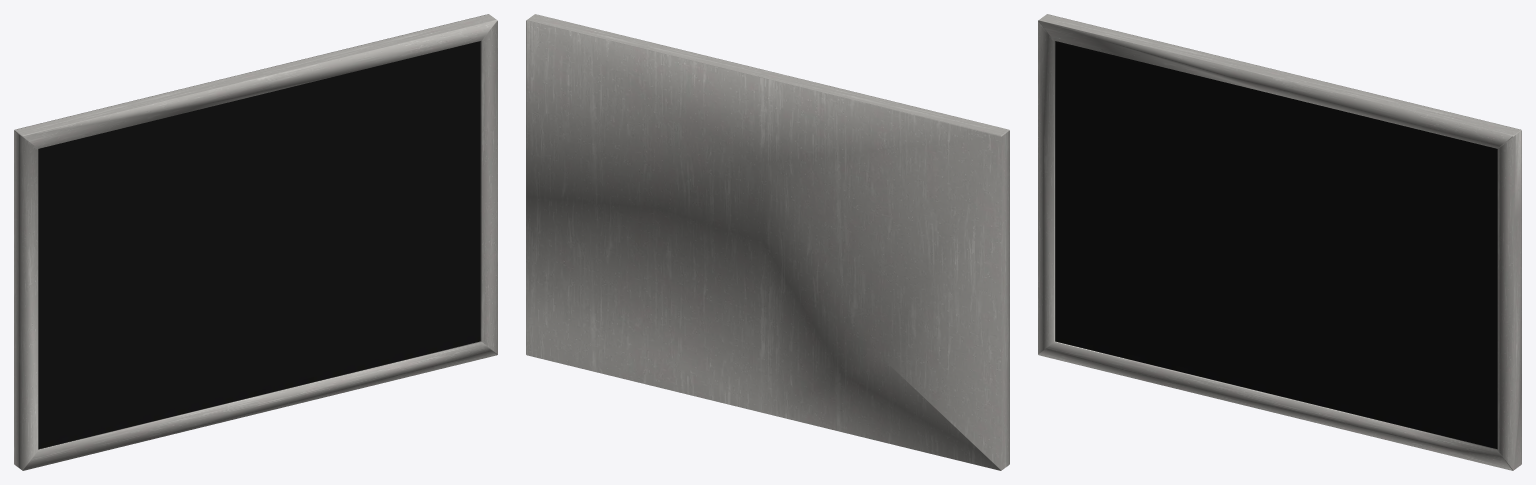
File: B075YLMC86.glb
The picture shows the model from 3 angles, left to right: view 1: azimuth 30°, elevation 25°; view 2: azimuth 150°, elevation 25°; view 3: azimuth 330°, elevation 25°; orthographic projection.
Parts seen in each view (by area): view 1: RootNode; view 2: RootNode; view 3: RootNode.
Part boxes in pixels (x1=…): RootNode: x1=14, y1=14, x2=497, y2=470; RootNode: x1=526, y1=14, x2=1009, y2=470; RootNode: x1=1038, y1=14, x2=1521, y2=470.
Bounding box in the file's own units: 0.9503 × 0.6401 × 0.0292.
1 material, 1 textured.
